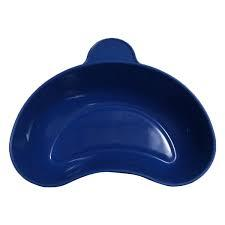Kidney Tray: (6, 61, 217, 191)
